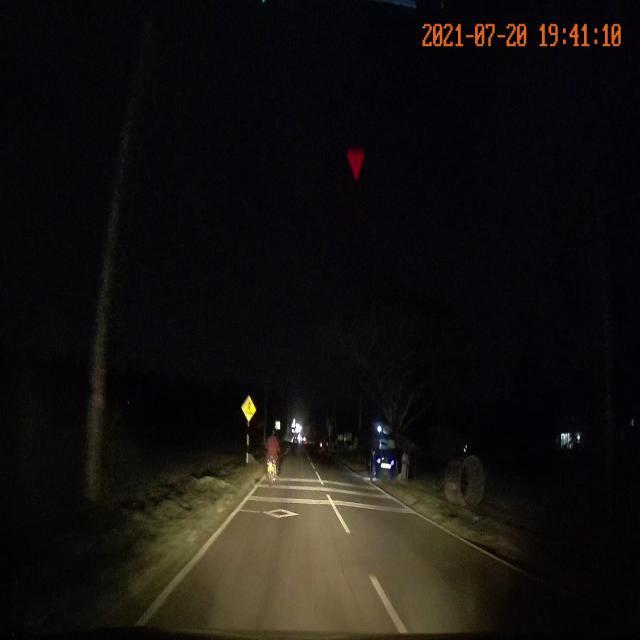diamond: (213, 495, 354, 533)
